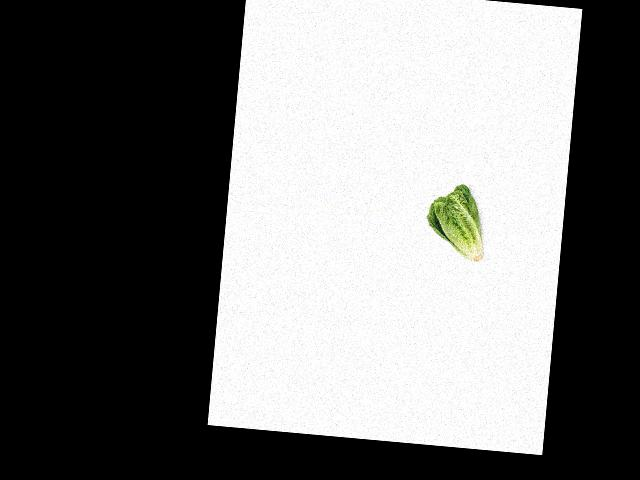lettuce: (423, 182, 490, 263)
